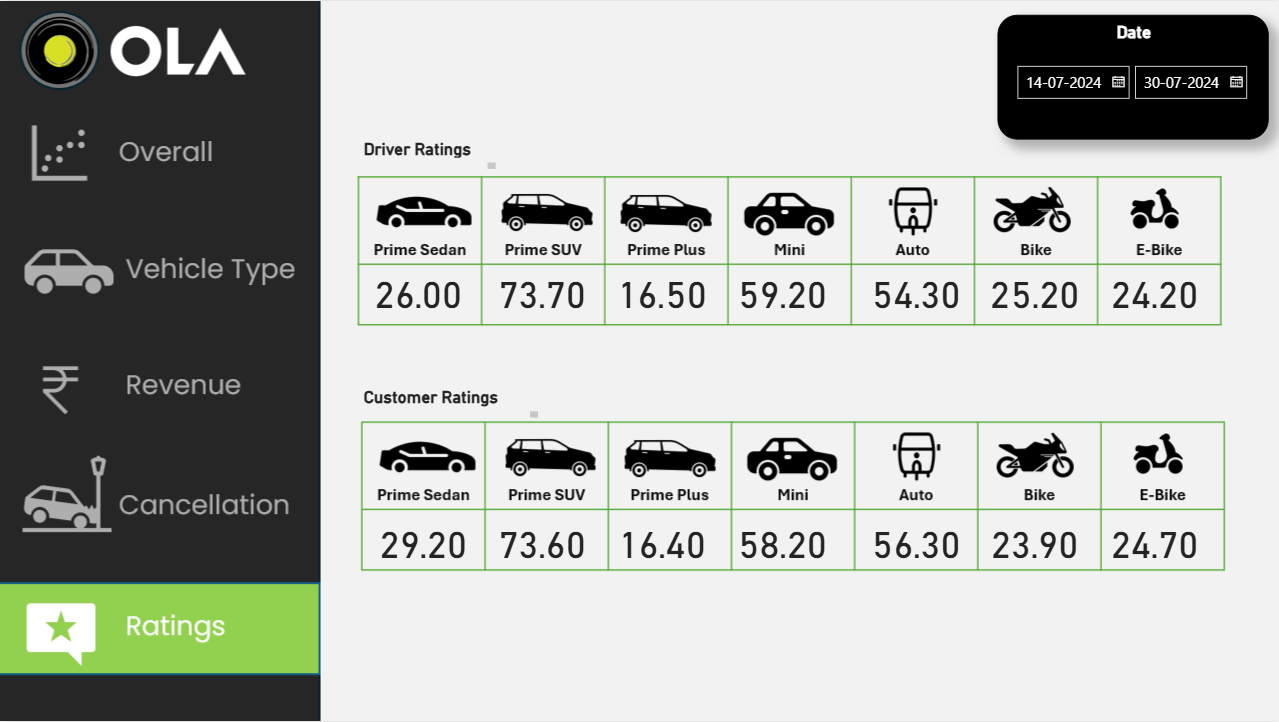

The page's visual inventory and layout, read from the dashboard file:
{"tool":"powerbi","page":{"name":"Ratings","canvas":[1280,720],"ordinal":4},"visuals":[{"type":"actionButton","box":[0,107.4,320.9,94.1],"z":0},{"type":"actionButton","box":[0,219.6,320.9,94.1],"z":1000},{"type":"actionButton","box":[0,339,320.9,94.1],"z":2000},{"type":"actionButton","box":[0,446.4,320.9,94.1],"z":3000},{"type":"actionButton","box":[0,582.7,320.9,94.1],"z":4000},{"type":"card","fields":{"Values":["Sum(Bookings.Driver_Ratings)"]},"box":[358.7,266.2,119.6,47.8],"z":5000},{"type":"card","fields":{"Values":["Sum(Bookings.Driver_Ratings)"]},"box":[602.5,266.2,119.6,47.8],"z":6000},{"type":"card","fields":{"Values":["Sum(Bookings.Driver_Ratings)"]},"box":[722.1,266.2,119.6,47.8],"z":7000},{"type":"card","fields":{"Values":["Sum(Bookings.Driver_Ratings)"]},"box":[856,266.2,119.6,47.8],"z":8000},{"type":"card","fields":{"Values":["Sum(Bookings.Driver_Ratings)"]},"box":[975.5,266.2,119.6,47.8],"z":9000},{"type":"card","fields":{"Values":["Sum(Bookings.Driver_Ratings)"]},"box":[1095.1,266.2,119.6,47.8],"z":10000},{"type":"card","fields":{"Values":["Sum(Bookings.Driver_Ratings)"]},"box":[483,266.2,119.6,47.8],"z":11000},{"type":"card","fields":{"Values":["Sum(Bookings.Customer_Rating)"]},"box":[363.4,516.5,119.6,47.8],"z":12000},{"type":"card","fields":{"Values":["Sum(Bookings.Customer_Rating)"]},"box":[483,516.5,119.6,47.8],"z":13000},{"type":"card","fields":{"Values":["Sum(Bookings.Customer_Rating)"]},"box":[602.5,516.5,119.6,47.8],"z":14000},{"type":"card","fields":{"Values":["Sum(Bookings.Customer_Rating)"]},"box":[722.1,516.5,119.6,47.8],"z":15000},{"type":"card","fields":{"Values":["Sum(Bookings.Customer_Rating)"]},"box":[856,516.5,119.6,47.8],"z":16000},{"type":"card","fields":{"Values":["Sum(Bookings.Customer_Rating)"]},"box":[975.5,516.5,119.6,47.8],"z":17000},{"type":"card","fields":{"Values":["Sum(Bookings.Customer_Rating)"]},"box":[1095.1,516.5,119.6,47.8],"z":18000},{"type":"textbox","title":"Driver Ratings","box":[358.6,137.1,141.4,35.7],"z":19000},{"type":"textbox","title":"Customer Ratings","box":[358.6,385.7,184.3,35.7],"z":20000},{"type":"slicer","title":"Date","fields":{"Values":["Bookings.Date"]},"box":[997.5,13.8,271.2,125],"z":21000}]}

Visuals, with their boxes in screenshot pixels (x1, y1, x2, y2), scaled from the page's 1280x720 canvas onto the 1279x722 screenshot:
actionButton: <bbox>0, 108, 321, 202</bbox>
actionButton: <bbox>0, 220, 321, 315</bbox>
actionButton: <bbox>0, 340, 321, 434</bbox>
actionButton: <bbox>0, 448, 321, 542</bbox>
actionButton: <bbox>0, 584, 321, 679</bbox>
card - Sum(Bookings.Driver_Ratings): <bbox>358, 267, 478, 315</bbox>
card - Sum(Bookings.Driver_Ratings): <bbox>602, 267, 722, 315</bbox>
card - Sum(Bookings.Driver_Ratings): <bbox>722, 267, 841, 315</bbox>
card - Sum(Bookings.Driver_Ratings): <bbox>855, 267, 975, 315</bbox>
card - Sum(Bookings.Driver_Ratings): <bbox>975, 267, 1094, 315</bbox>
card - Sum(Bookings.Driver_Ratings): <bbox>1094, 267, 1214, 315</bbox>
card - Sum(Bookings.Driver_Ratings): <bbox>483, 267, 602, 315</bbox>
card - Sum(Bookings.Customer_Rating): <bbox>363, 518, 483, 566</bbox>
card - Sum(Bookings.Customer_Rating): <bbox>483, 518, 602, 566</bbox>
card - Sum(Bookings.Customer_Rating): <bbox>602, 518, 722, 566</bbox>
card - Sum(Bookings.Customer_Rating): <bbox>722, 518, 841, 566</bbox>
card - Sum(Bookings.Customer_Rating): <bbox>855, 518, 975, 566</bbox>
card - Sum(Bookings.Customer_Rating): <bbox>975, 518, 1094, 566</bbox>
card - Sum(Bookings.Customer_Rating): <bbox>1094, 518, 1214, 566</bbox>
"Driver Ratings" textbox: <bbox>358, 137, 500, 173</bbox>
"Customer Ratings" textbox: <bbox>358, 387, 542, 423</bbox>
"Date" slicer: <bbox>997, 14, 1268, 139</bbox>
